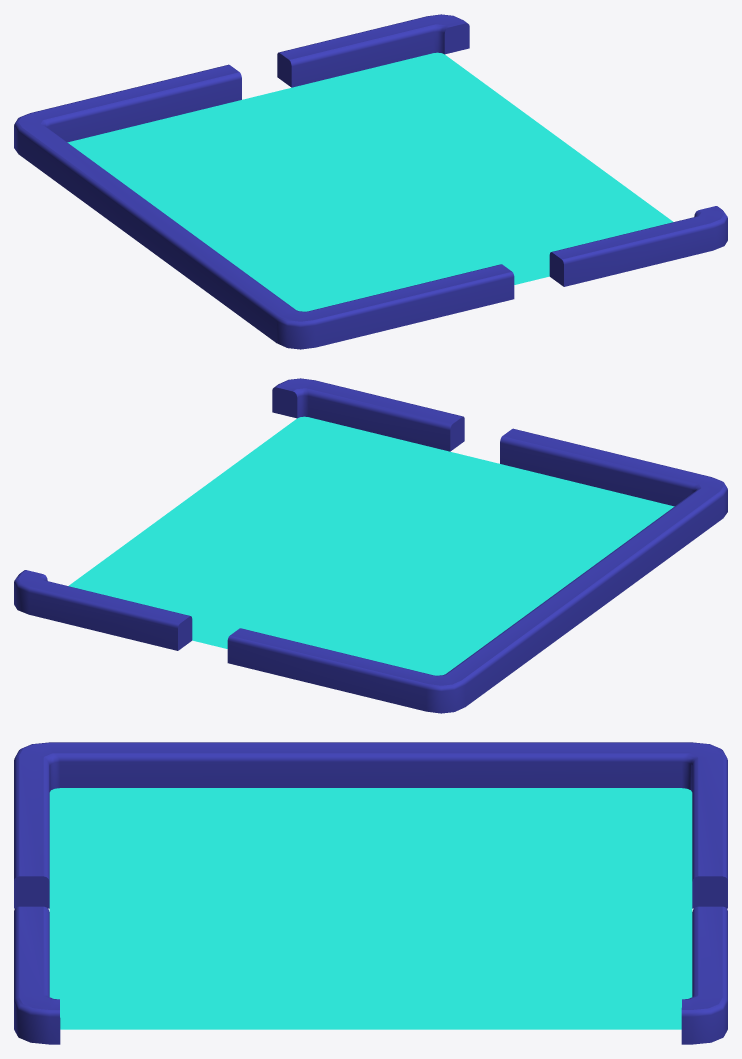
File: Board1.glb
The picture shows the model from 3 angles, top to bottom: view 1: azimuth 30°, elevation 25°; view 2: azimuth 150°, elevation 25°; view 3: azimuth 270°, elevation 25°; orthographic projection. The views are drawn at different scales.
Parts seen in each view (by area): view 1: Board; view 2: Board; view 3: Board.
Boxes of the visible parts, x1=… form: Board: x1=14, y1=14, x2=727, y2=349; Board: x1=14, y1=378, x2=727, y2=713; Board: x1=14, y1=742, x2=727, y2=1044.
Size of the model in its own units: 18 by 1 by 20.
